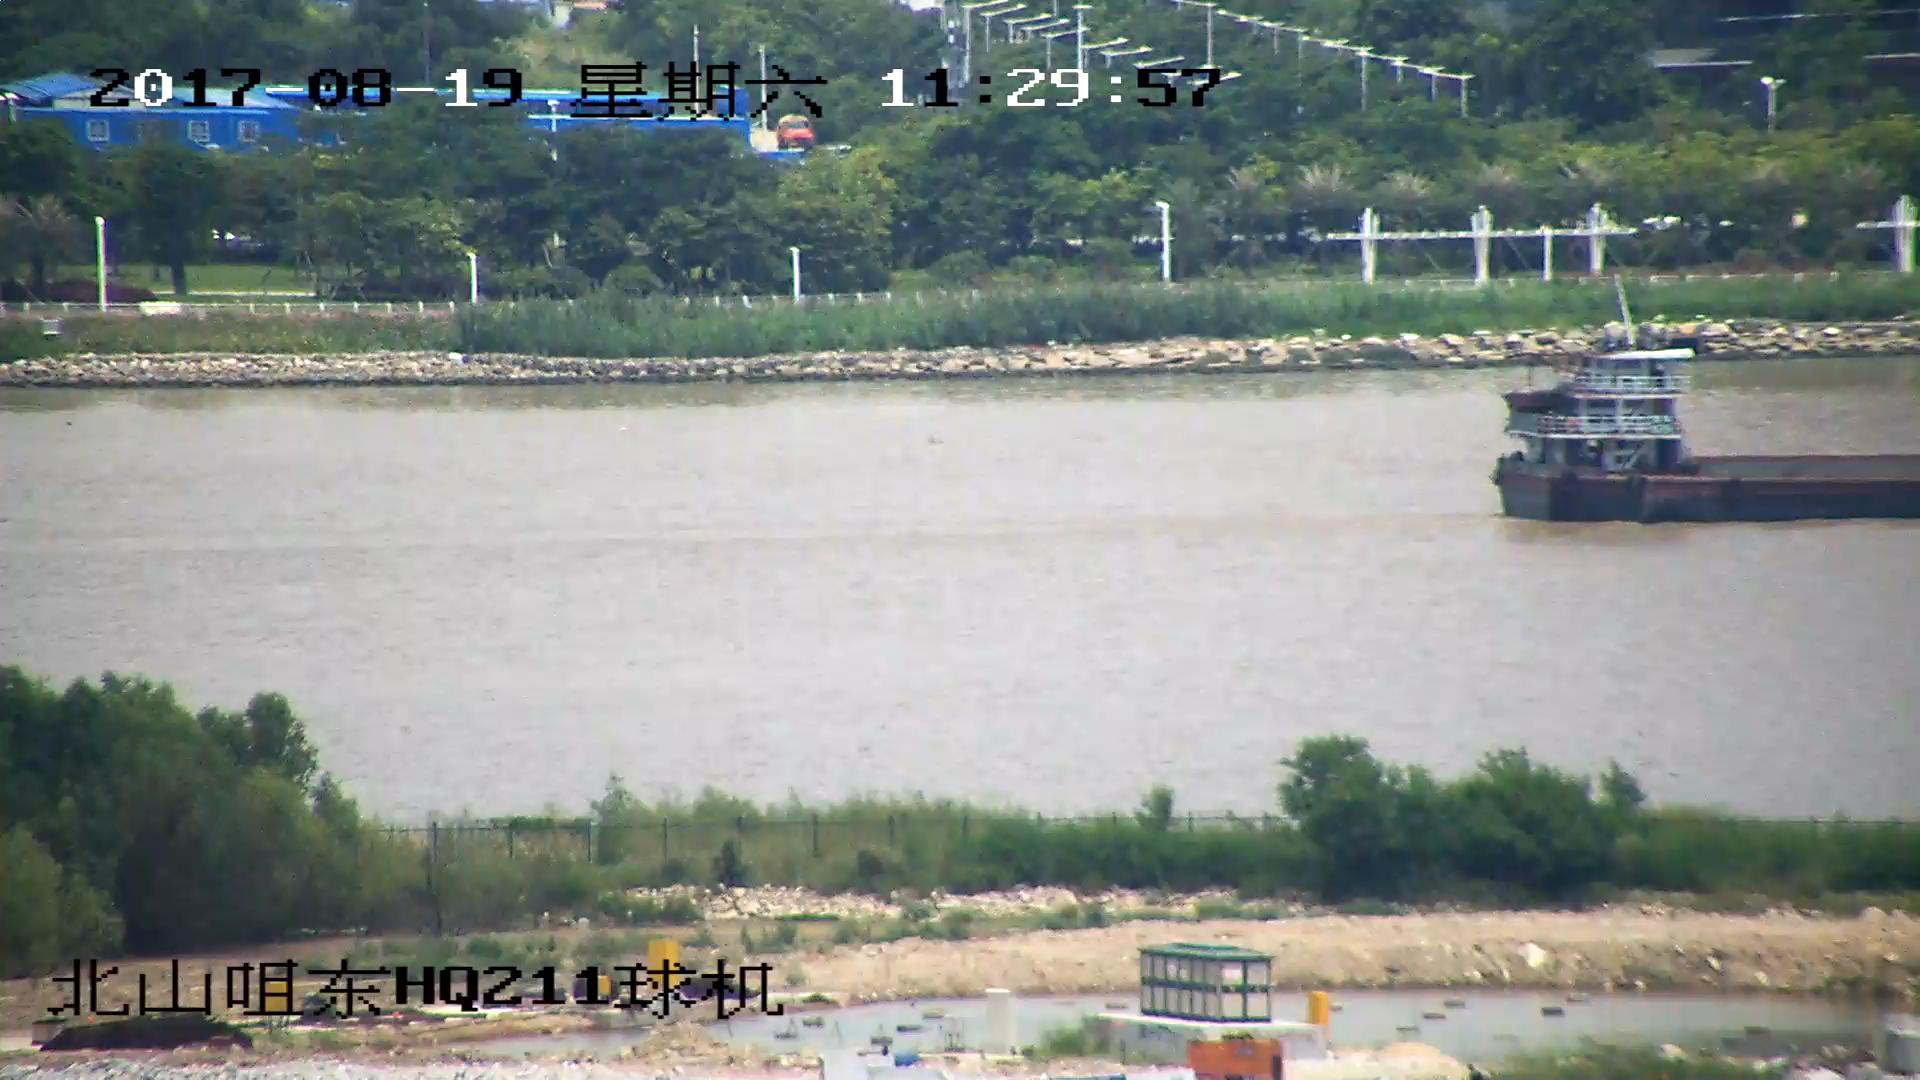general cargo ship: (1496, 352, 1920, 519)
